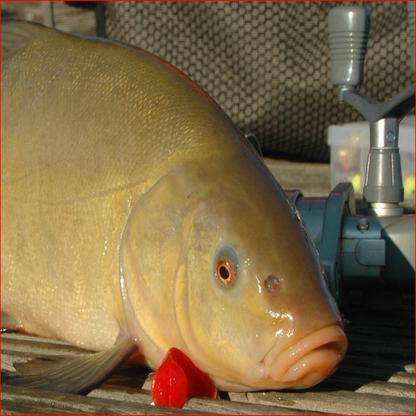fish: (0, 16, 351, 392)
